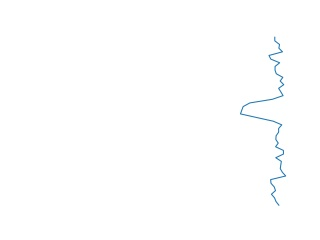interdistributaryEstuary: (237, 36, 293, 206)
